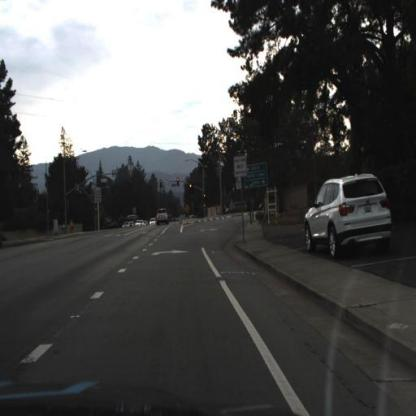car: (301, 173, 395, 258), (224, 198, 247, 216), (156, 207, 168, 225)
